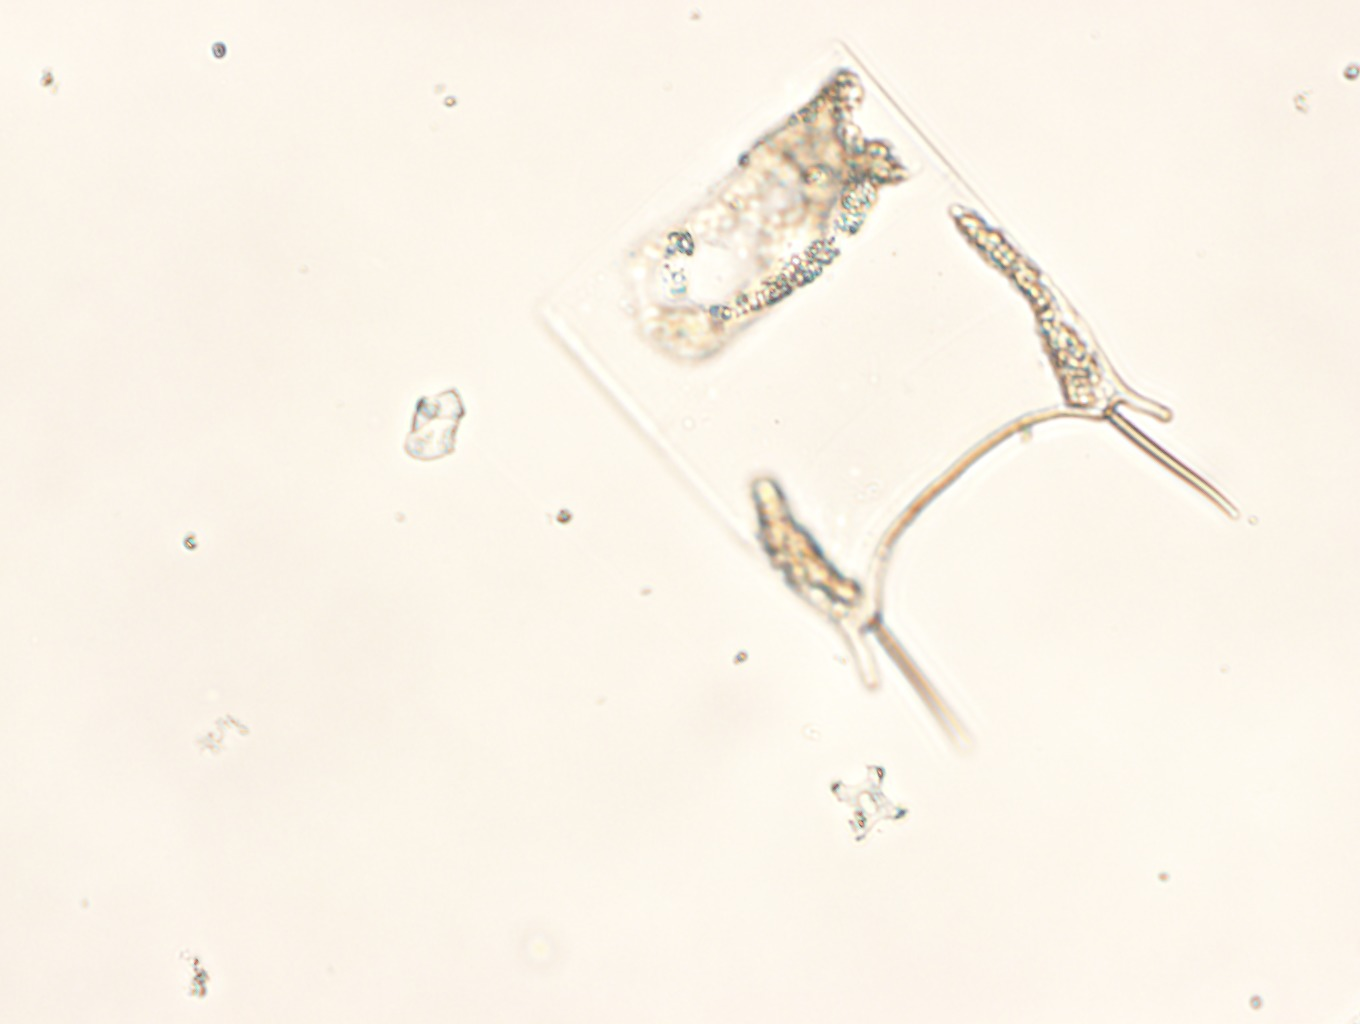biddulphia: (541, 42, 1241, 744)
